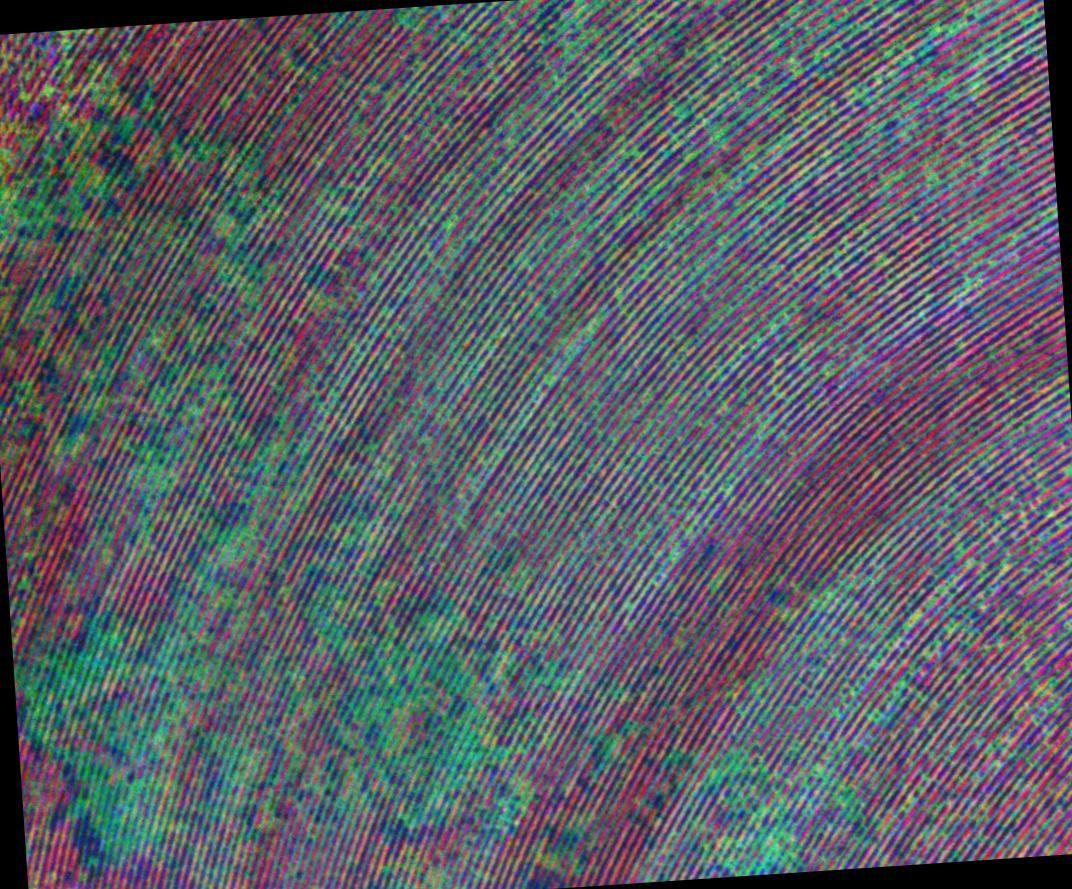dc: (409, 675, 414, 680), (157, 656, 161, 661), (204, 669, 208, 673), (124, 846, 128, 850), (629, 606, 632, 610), (422, 618, 425, 622), (328, 637, 331, 641), (298, 676, 302, 679), (28, 693, 31, 697), (161, 823, 165, 826), (235, 625, 238, 627), (99, 817, 101, 820)
